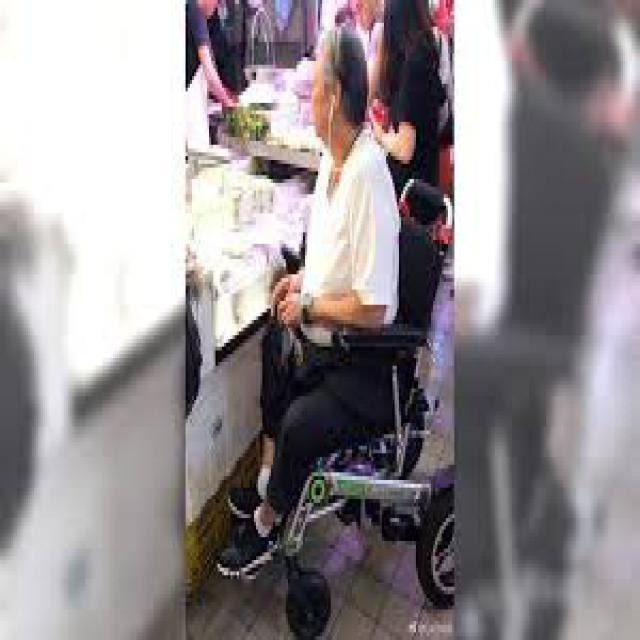wheelchairs: (258, 172, 450, 636)
